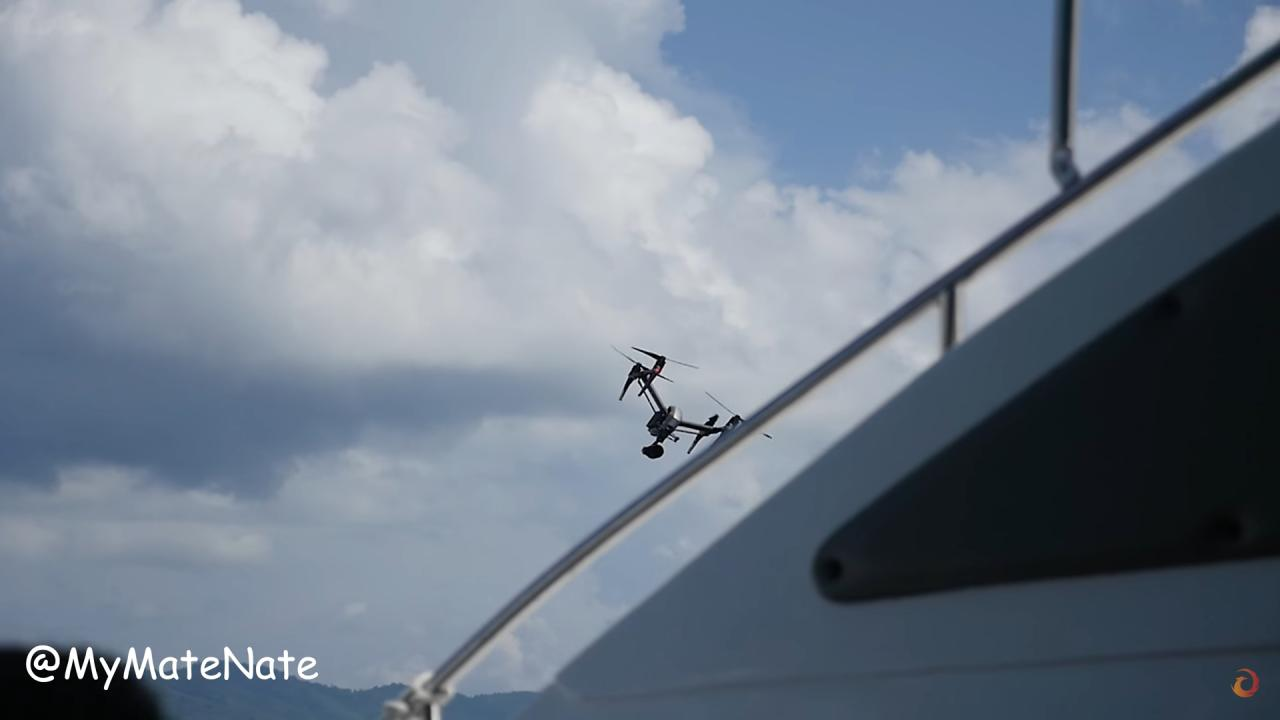Drone: (589, 329, 790, 474)
